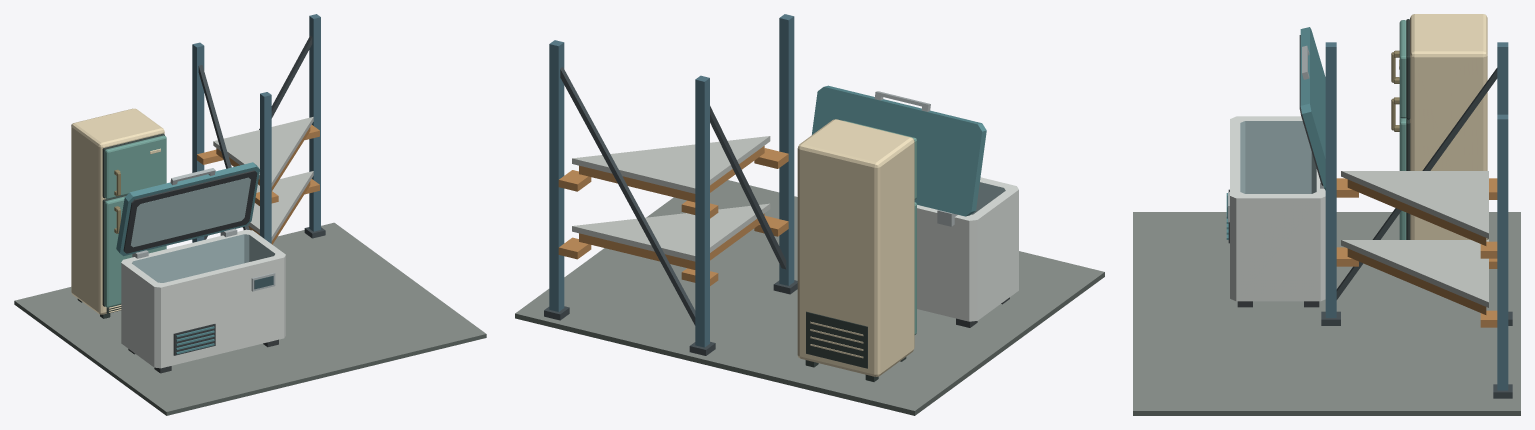
3 views of the same model, side by side, from view 1: azimuth 30°, elevation 25°; view 2: azimuth 150°, elevation 25°; view 3: azimuth 270°, elevation 25° (orthographic). The views are drawn at different scales.
Parts seen in each view (by area): view 1: SCENE_ONLY__DisplayFloor, freezer__ContinuousThickEmptyInsulatedChest, fridge__Body_rounded_ivory_shell, freezer__SolidRaisedLidInnerLiner, fridge__Freezer_closed_front_face, rack__UpperWholeCornerShelf, rack__FullHeightPost_2, freezer__WholeUndersideGasketRing, freezer__WholeFixedRaisedInsulatedLid, fridge__Refrigerator_closed_front_face, rack__FullHeightPost_3, rack__LowerWholeCornerShelf (+4 smaller); view 2: SCENE_ONLY__DisplayFloor, fridge__Body_rounded_ivory_shell, freezer__ContinuousThickEmptyInsulatedChest, freezer__WholeFixedRaisedInsulatedLid, rack__UpperWholeCornerShelf, rack__LowerWholeCornerShelf, rack__FullHeightPost_2, rack__FullHeightPost_1, rack__FullHeightPost_3, fridge__Rear_service_cover, rack__BackXCompleteDiagonalBrace, rack__UpperWholeTriangularUnderframe (+2 smaller); view 3: SCENE_ONLY__DisplayFloor, freezer__ContinuousThickEmptyInsulatedChest, fridge__Body_rounded_ivory_shell, rack__UpperWholeCornerShelf, rack__LowerWholeCornerShelf, rack__FullHeightPost_2, rack__FullHeightPost_3, freezer__WholeFixedRaisedInsulatedLid, rack__BackYCompleteDiagonalBrace, rack__UpperWholeTriangularUnderframe, rack__LowerWholeTriangularUnderframe, rack__FullHeightPost_1 (+4 smaller).
Part boxes in pixels (x1,y1,x2,y2): SCENE_ONLY__DisplayFloor: (14,222,486,415); freezer__ContinuousThickEmptyInsulatedChest: (121,229,285,368); fridge__Body_rounded_ivory_shell: (71,108,164,314); freezer__SolidRaisedLidInnerLiner: (130,177,250,247); fridge__Freezer_closed_front_face: (104,135,166,199); rack__UpperWholeCornerShelf: (213,117,313,186); rack__FullHeightPost_2: (309,14,320,231); freezer__WholeUndersideGasketRing: (123,170,257,253); freezer__WholeFixedRaisedInsulatedLid: (116,162,260,256); fridge__Refrigerator_closed_front_face: (104,196,166,307); rack__FullHeightPost_3: (260,92,271,243); rack__LowerWholeCornerShelf: (248,171,313,241); SCENE_ONLY__DisplayFloor: (515,180,1104,415); fridge__Body_rounded_ivory_shell: (797,119,914,376); freezer__ContinuousThickEmptyInsulatedChest: (917,177,1018,321); freezer__WholeFixedRaisedInsulatedLid: (812,85,986,216); rack__UpperWholeCornerShelf: (572,136,770,193); rack__LowerWholeCornerShelf: (572,203,770,261); rack__FullHeightPost_2: (549,40,564,311); rack__FullHeightPost_1: (695,75,709,347); rack__FullHeightPost_3: (779,14,794,285); fridge__Rear_service_cover: (806,311,867,368); rack__BackXCompleteDiagonalBrace: (560,67,695,325); rack__UpperWholeTriangularUnderframe: (579,146,764,202); SCENE_ONLY__DisplayFloor: (1133,212,1520,415); freezer__ContinuousThickEmptyInsulatedChest: (1230,116,1325,301); fridge__Body_rounded_ivory_shell: (1410,14,1487,239); rack__UpperWholeCornerShelf: (1341,171,1488,238); rack__LowerWholeCornerShelf: (1341,240,1488,307); rack__FullHeightPost_2: (1497,114,1508,390); rack__FullHeightPost_3: (1325,42,1336,317); freezer__WholeFixedRaisedInsulatedLid: (1300,27,1325,190); rack__BackYCompleteDiagonalBrace: (1336,68,1497,299); rack__UpperWholeTriangularUnderframe: (1347,179,1486,245); rack__LowerWholeTriangularUnderframe: (1347,248,1486,314); rack__FullHeightPost_1: (1497,42,1508,114).
Size of the model in its own units: 3.4 by 2.25 by 2.8.
